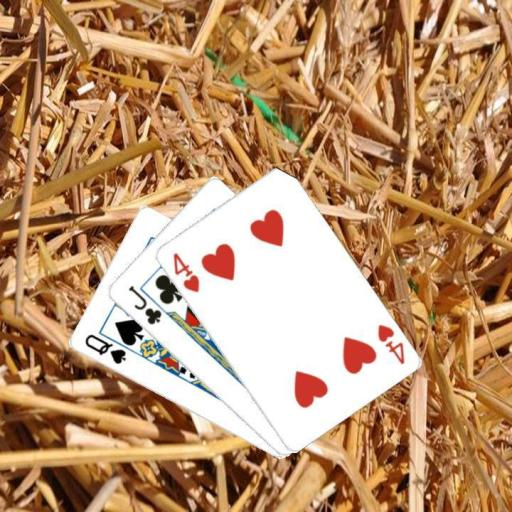card-corner: (124, 282, 163, 326), (81, 331, 127, 366), (373, 320, 406, 366), (168, 249, 200, 294)
